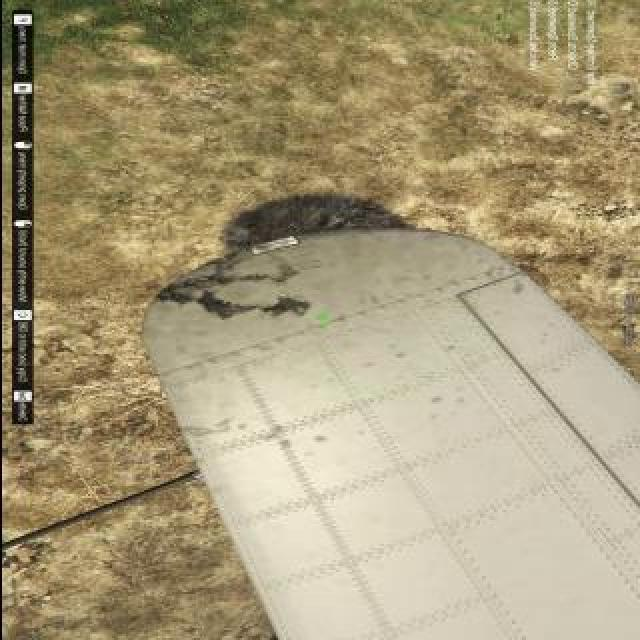dent: (153, 251, 299, 305), (195, 291, 257, 320), (257, 296, 311, 318)
